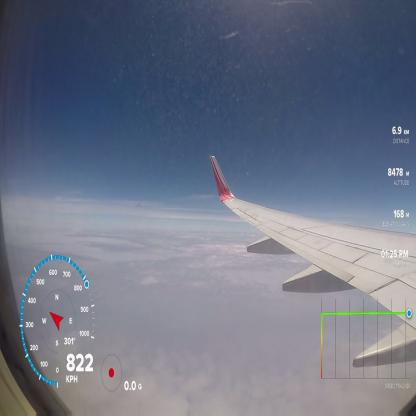CIV_Plane: (206, 151, 415, 376)
